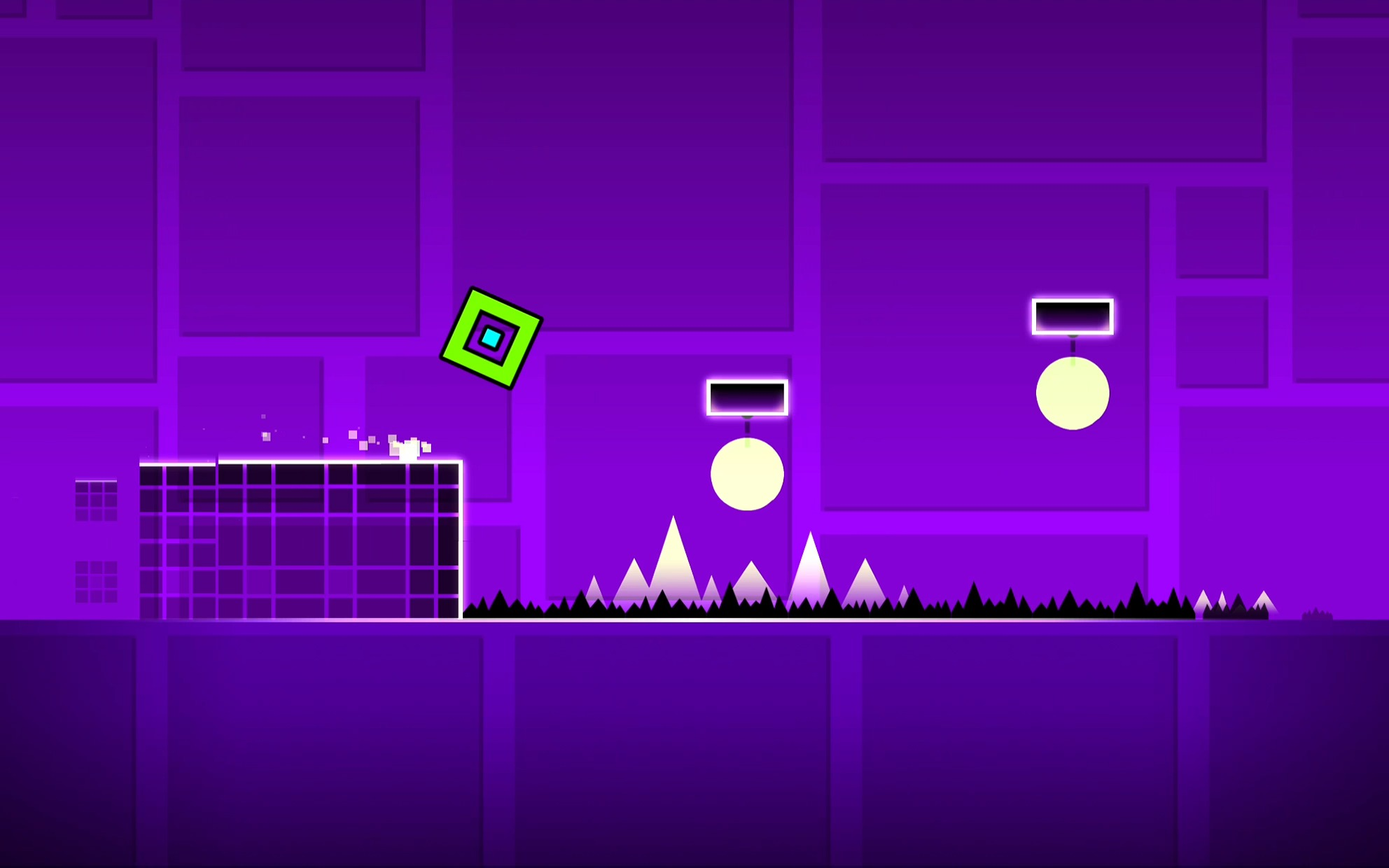Block2: (135, 462, 459, 622)
Block3: (706, 381, 788, 417), (1033, 298, 1114, 334)
Player: (440, 288, 543, 388)
Spike3: (465, 583, 1371, 626)
